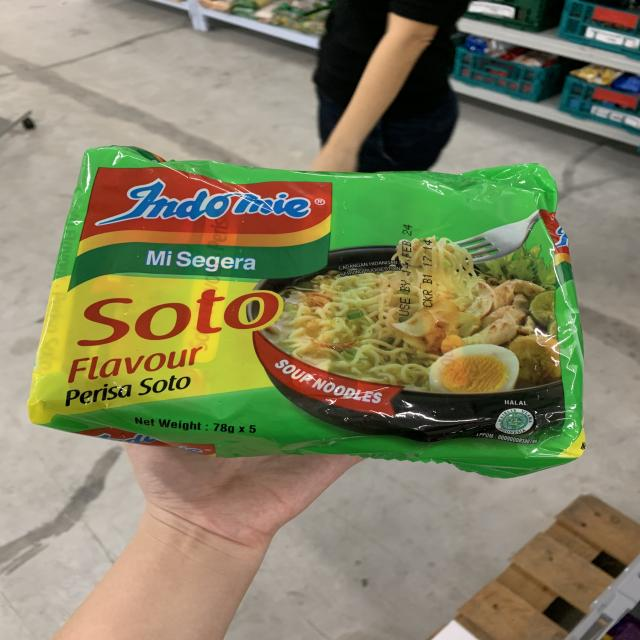object_name: (76, 152, 568, 457)
